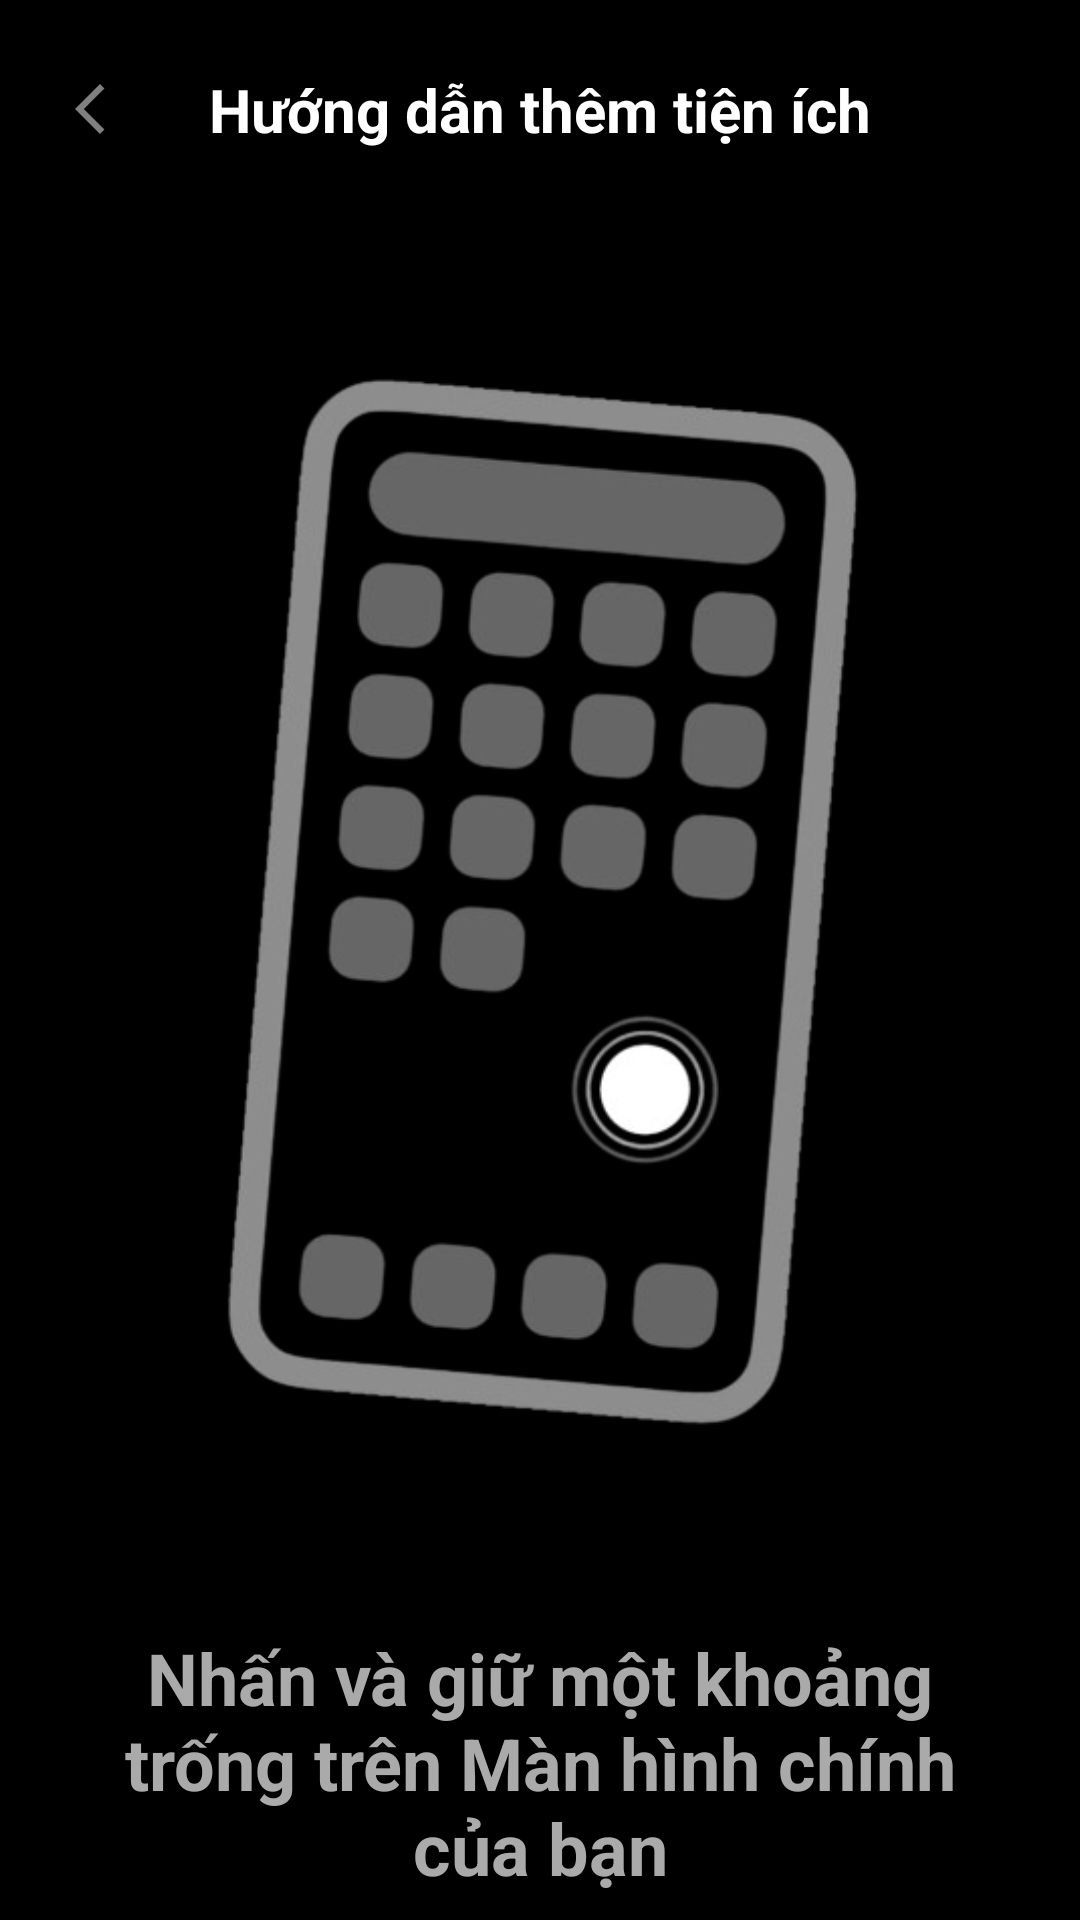

Icons on this 1080px×1920px Android screen, each with its box as Rect(x1, y1, x2, y2):
back: Rect(75, 84, 104, 134)
